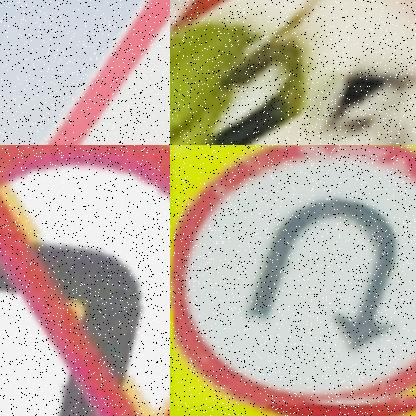No left turn: (0, 145, 170, 416)
Speed Limit -25 kmph-: (170, 0, 416, 145)
U-Turn: (174, 145, 416, 405)
